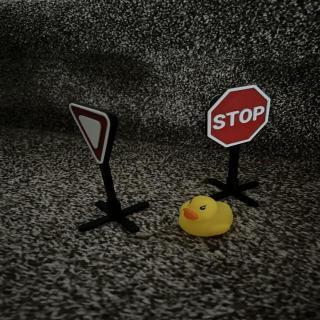duck_regular: (179, 197, 235, 239)
sign_stop: (207, 86, 273, 150)
sign_yield: (70, 105, 119, 167)
